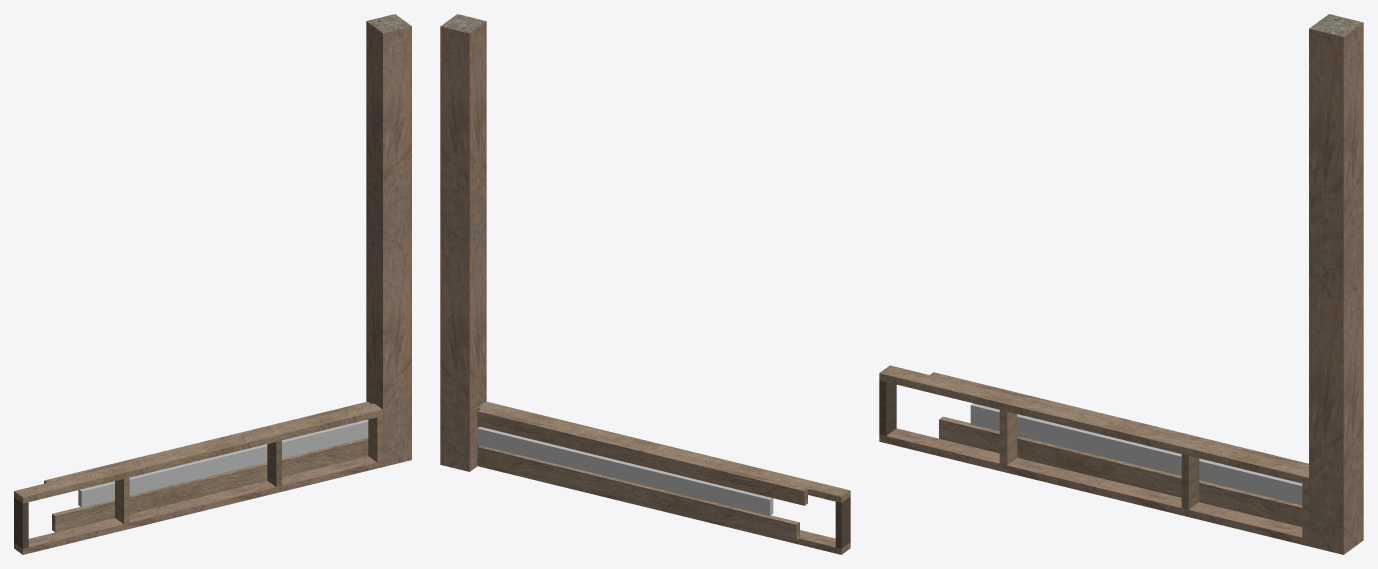
File: WallFloorDividerDestroyC.fbx
3 views of the same model, side by side, from view 1: azimuth 30°, elevation 25°; view 2: azimuth 150°, elevation 25°; view 3: azimuth 330°, elevation 25° (orthographic). The views are drawn at different scales.
Parts seen in each view (by area): view 1: WallFloorDividerDestroyC; view 2: WallFloorDividerDestroyC; view 3: WallFloorDividerDestroyC.
Boxes of the visible parts, box(x1,y1,x2,y2) form: WallFloorDividerDestroyC: box(14, 14, 411, 554); WallFloorDividerDestroyC: box(440, 14, 850, 554); WallFloorDividerDestroyC: box(879, 14, 1363, 554).
Bounding box in the file's own units: 404 × 431 × 30.09.
